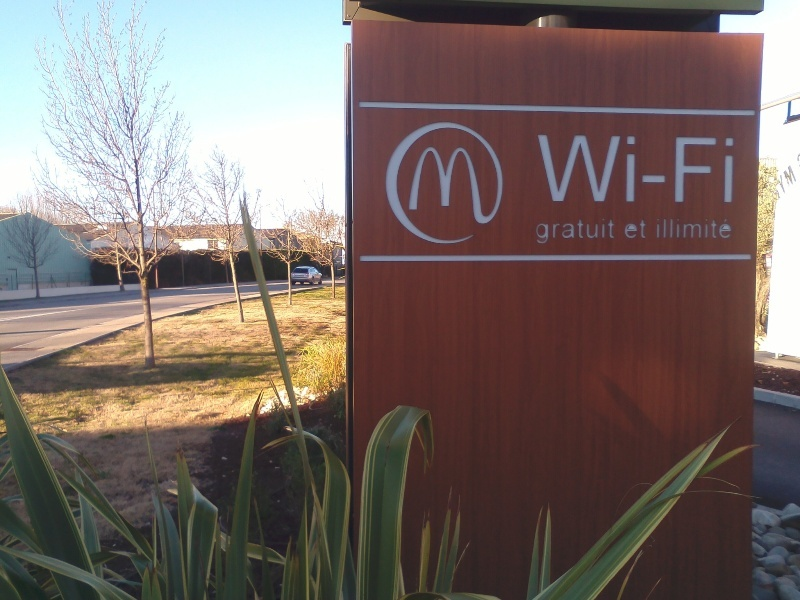text: (545, 134, 560, 204), (561, 134, 576, 204), (577, 134, 592, 204), (593, 134, 608, 204), (609, 134, 624, 204), (625, 134, 640, 204), (641, 134, 656, 204), (657, 134, 672, 204), (673, 134, 688, 204), (689, 134, 704, 204), (705, 134, 720, 204), (721, 134, 736, 204), (417, 147, 432, 214), (433, 147, 448, 214), (449, 147, 464, 214), (465, 147, 480, 214), (406, 147, 416, 214), (537, 134, 544, 204), (545, 218, 560, 245), (561, 218, 576, 245), (577, 218, 592, 245), (593, 218, 608, 245), (657, 217, 672, 239), (673, 217, 688, 239), (689, 217, 704, 239), (705, 217, 720, 239), (626, 220, 640, 240), (721, 217, 733, 239), (536, 218, 544, 245), (609, 218, 615, 245), (481, 147, 483, 214), (641, 220, 647, 240)
